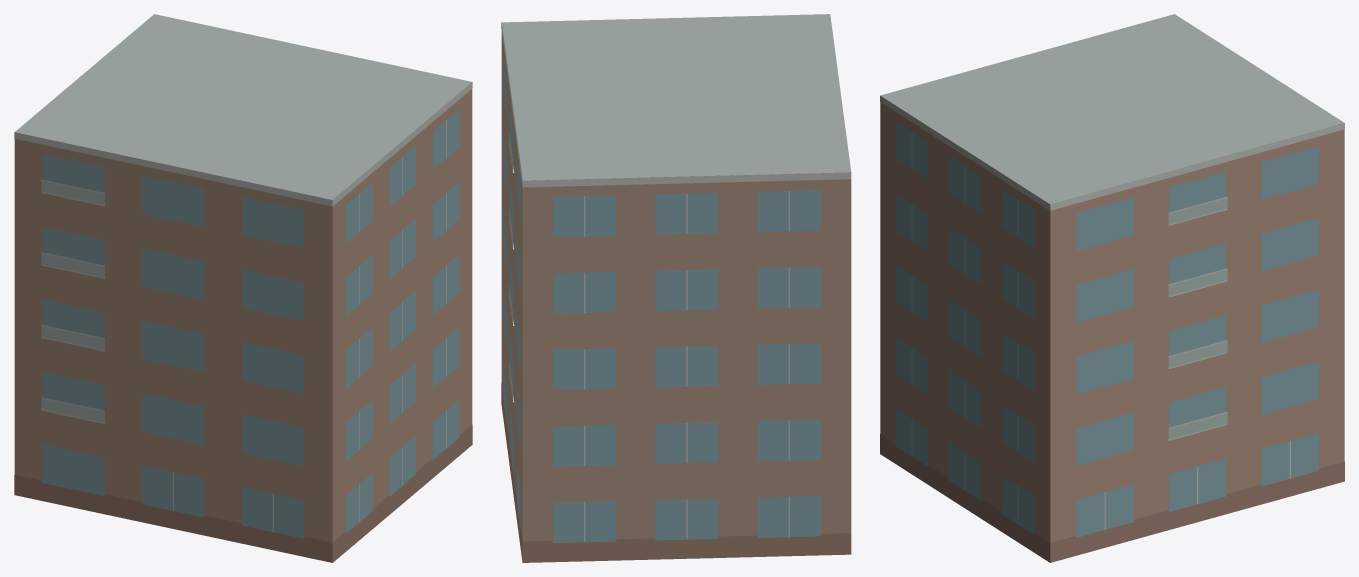
File: survey-upis-33008381.glb
The picture shows the model from 3 angles, left to right: view 1: azimuth 30°, elevation 25°; view 2: azimuth 150°, elevation 25°; view 3: azimuth 270°, elevation 25°; orthographic projection. The views are drawn at different scales.
Visible parts, largest first — view 1: survey-upis-33008381.tmp; view 2: survey-upis-33008381.tmp; view 3: survey-upis-33008381.tmp.
Part boxes in pixels (bbox=[...]): survey-upis-33008381.tmp: bbox=[14, 14, 472, 562]; survey-upis-33008381.tmp: bbox=[501, 14, 851, 562]; survey-upis-33008381.tmp: bbox=[880, 14, 1344, 562].
Bounding box in the file's own units: 15.61 × 13.7 × 16.1.
